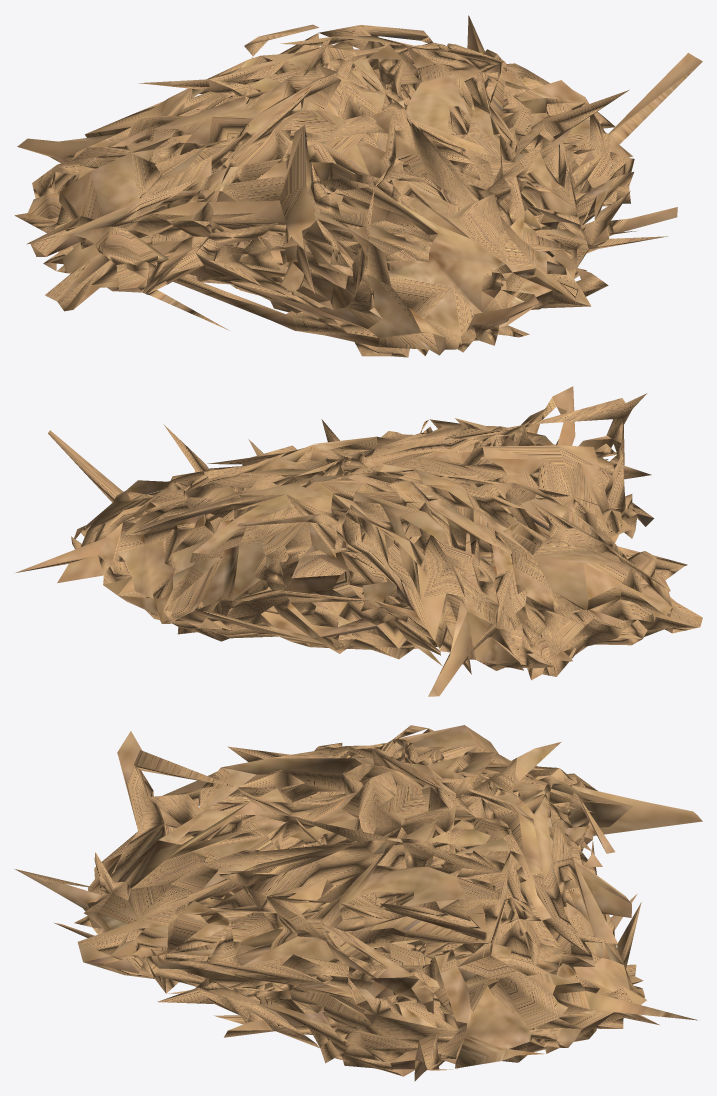
3 renders of one model, top to bottom at view 1: azimuth 30°, elevation 25°; view 2: azimuth 150°, elevation 25°; view 3: azimuth 270°, elevation 25°, orthographic. The views are drawn at different scales.
Parts seen in each view (by area): view 1: geometry_0; view 2: geometry_0; view 3: geometry_0.
Boxes of the visible parts, x1,y1,x2,y2 form: geometry_0: (14,15,702,357); geometry_0: (14,386,702,696); geometry_0: (15,725,702,1081).
Size of the model in its own units: 0.35 by 0.0824 by 0.3012.
1 material, 1 textured.
